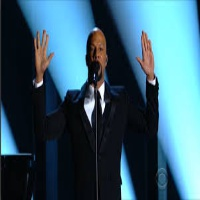ring: (145, 30, 150, 53), (36, 30, 41, 52)
